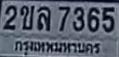2: (3, 4, 16, 29)
3: (72, 6, 83, 30)
5: (102, 6, 114, 32)
6: (88, 6, 98, 31)
7: (58, 5, 69, 30)
A02: (19, 4, 34, 29)
A36: (36, 4, 50, 29)
BKK: (10, 38, 103, 57)
